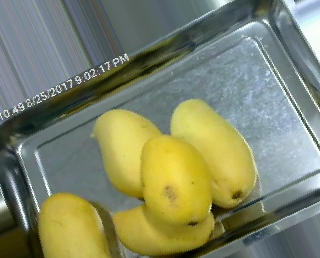Mango: (168, 100, 257, 208), (139, 135, 213, 228), (93, 108, 167, 200), (111, 206, 212, 254), (39, 193, 111, 256)
